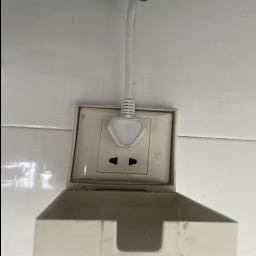outlet: (69, 95, 178, 189)
